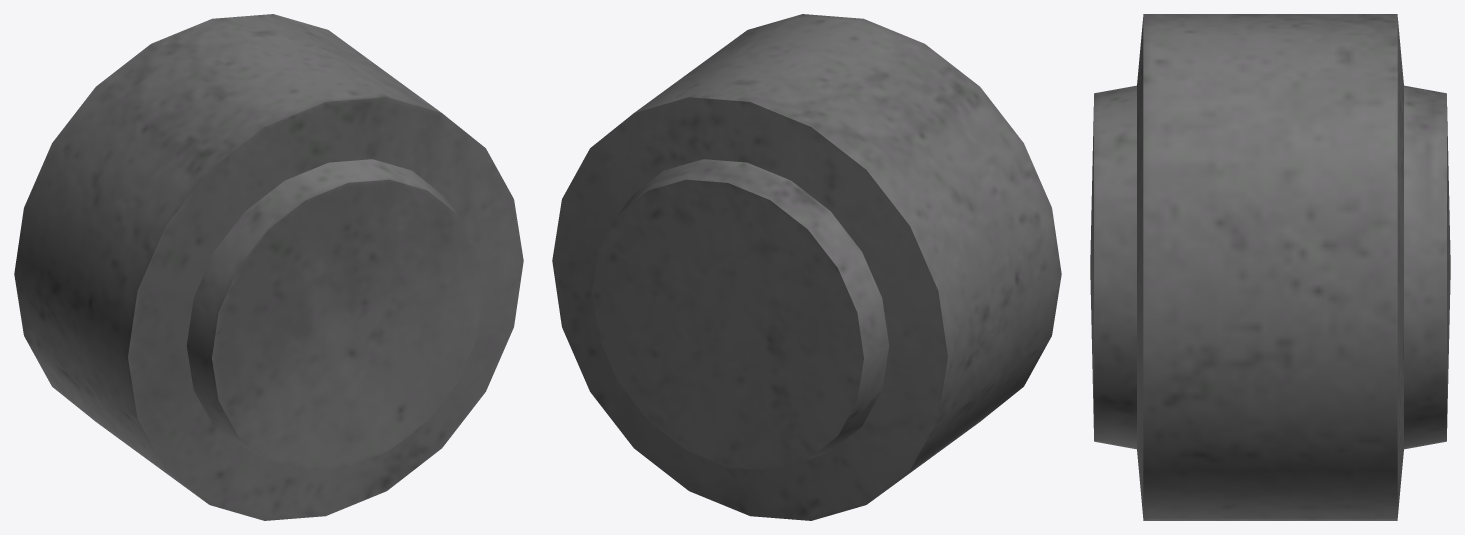
Rendered from wm_pelagir_sword_a01_pommel.fbx.
3 views of the same model, side by side, from view 1: azimuth 30°, elevation 25°; view 2: azimuth 150°, elevation 25°; view 3: azimuth 270°, elevation 25° (orthographic). The views are drawn at different scales.
Visible parts, largest first — view 1: wm_pelagir_sword_a01_pommel; view 2: wm_pelagir_sword_a01_pommel; view 3: wm_pelagir_sword_a01_pommel.
Boxes of the visible parts, x1,y1,x2,y2 form: wm_pelagir_sword_a01_pommel: [14, 14, 523, 520]; wm_pelagir_sword_a01_pommel: [552, 14, 1061, 520]; wm_pelagir_sword_a01_pommel: [1090, 14, 1450, 520].
Size of the model in its own units: 0.0688 by 0.0486 by 0.0688.
1 material, 1 textured.
